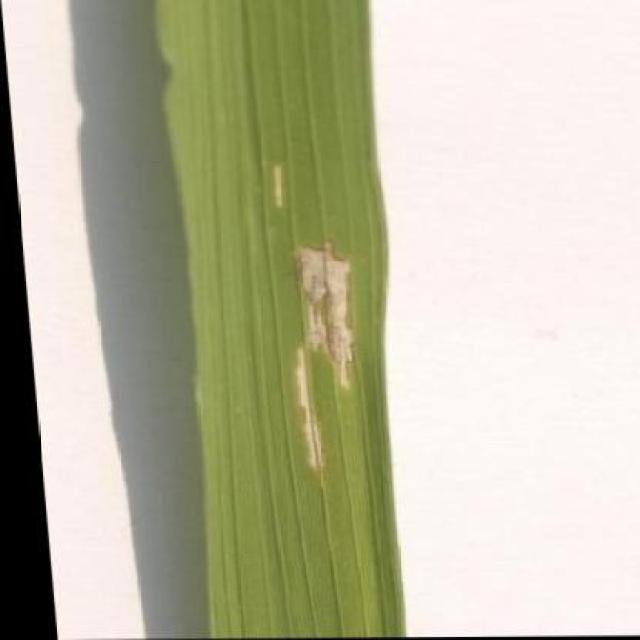Brown_Spot: (218, 153, 376, 536)
